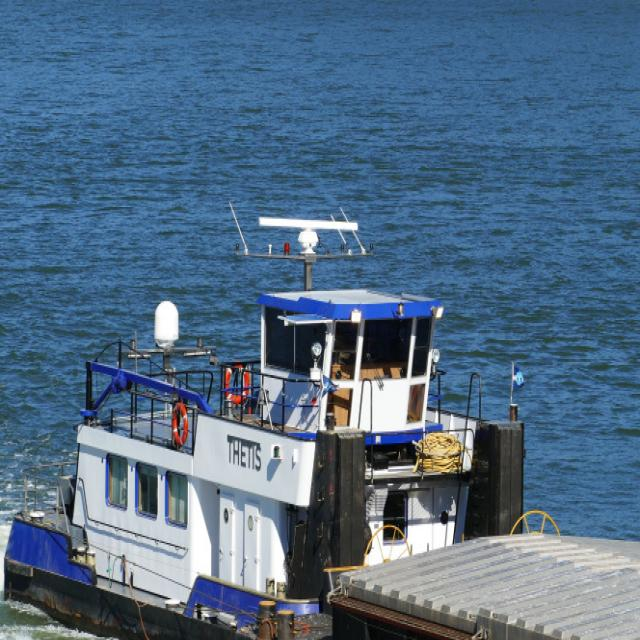tugboat: (2, 205, 528, 640)
